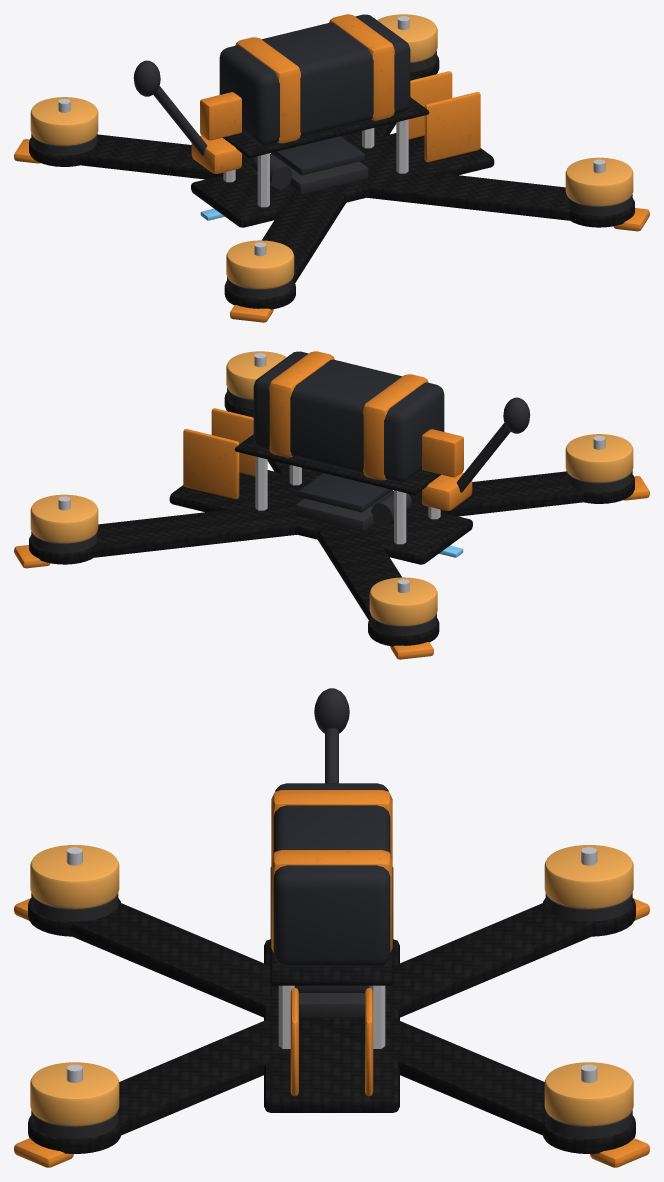
Rendered from SM_FPVDrone_Frame.fbx.
3 renders of one model, top to bottom at view 1: azimuth 30°, elevation 25°; view 2: azimuth 150°, elevation 25°; view 3: azimuth 270°, elevation 25°, orthographic. The views are drawn at different scales.
Visible parts, largest first — view 1: SM_FPVDrone_Frame; view 2: SM_FPVDrone_Frame; view 3: SM_FPVDrone_Frame.
Boxes of the visible parts, box(x1,y1,x2,y2) form: SM_FPVDrone_Frame: box(14, 14, 649, 322); SM_FPVDrone_Frame: box(14, 351, 649, 659); SM_FPVDrone_Frame: box(14, 688, 649, 1167).
Size of what is drawn, in the model's own units: 0.1967 by 0.0777 by 0.1967.
